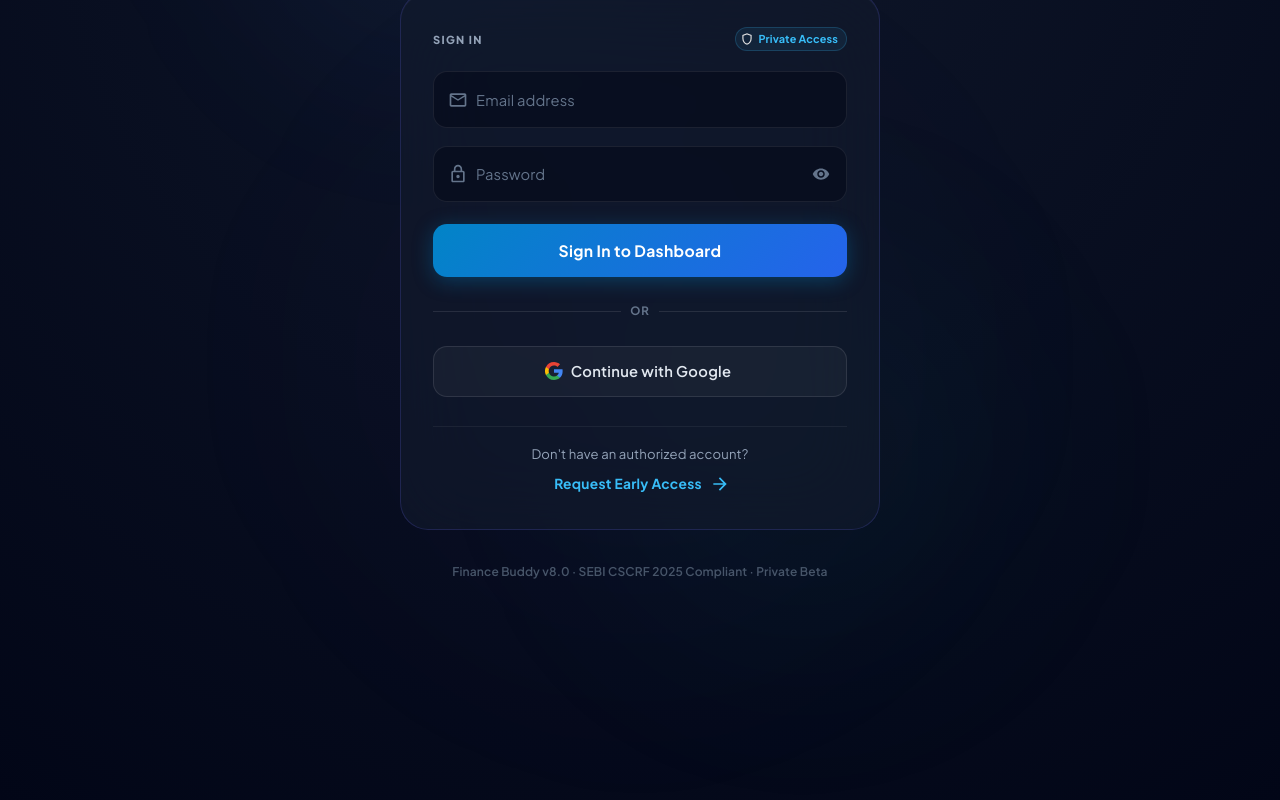
Landing Page › opens request access modal and submits application
This screenshot has width=1280, height=800.
(page scrolled)
Click the button "Request Early Access" at (640, 484), box top-left (554, 472), bottom-right (726, 496)
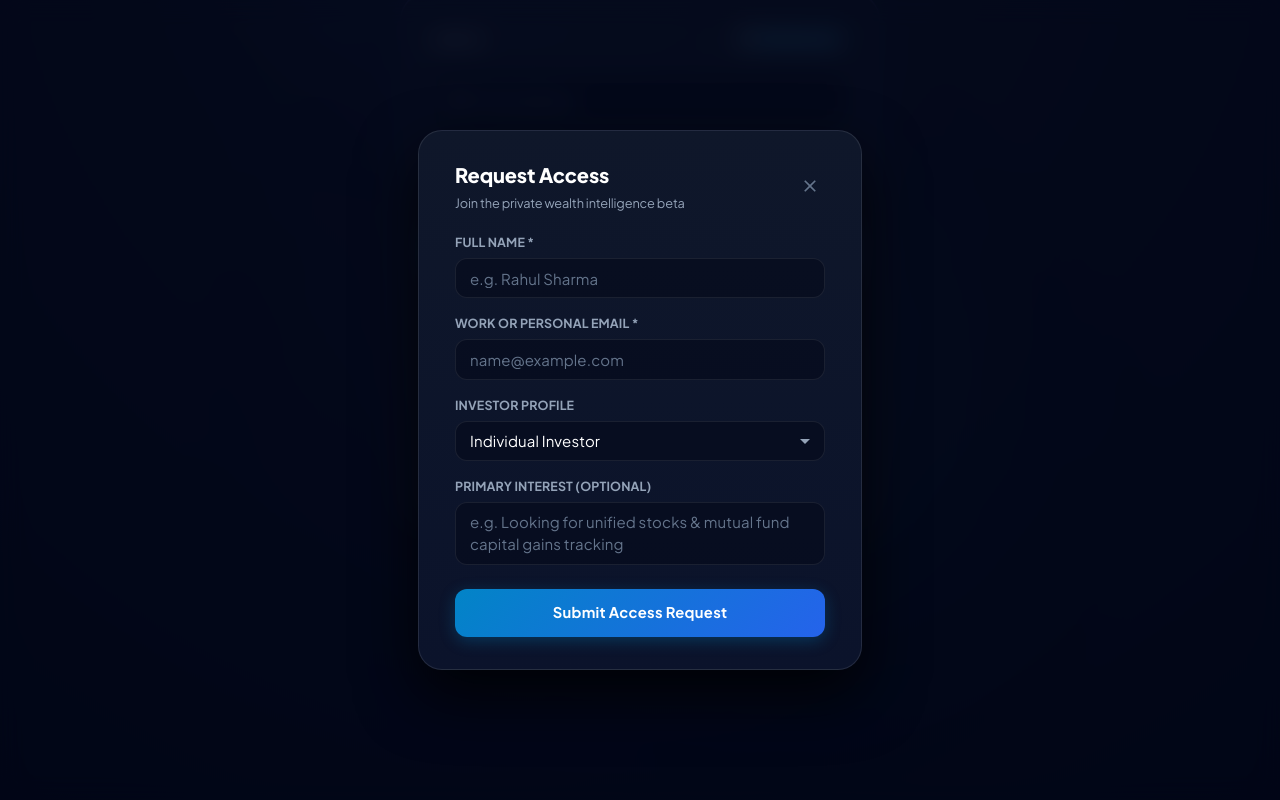
Result: the heading "Request Access Join the private wealth intelligence beta" is shown at top-left (431, 143), bottom-right (849, 221)
Result: the text "Join the private wealth intelligence beta" is shown at top-left (455, 193), bottom-right (685, 213)
Type "Alex Investor" into the field with placeholder "e.g. Rahul Sharma" at (640, 278), box top-left (456, 259), bottom-right (824, 298)
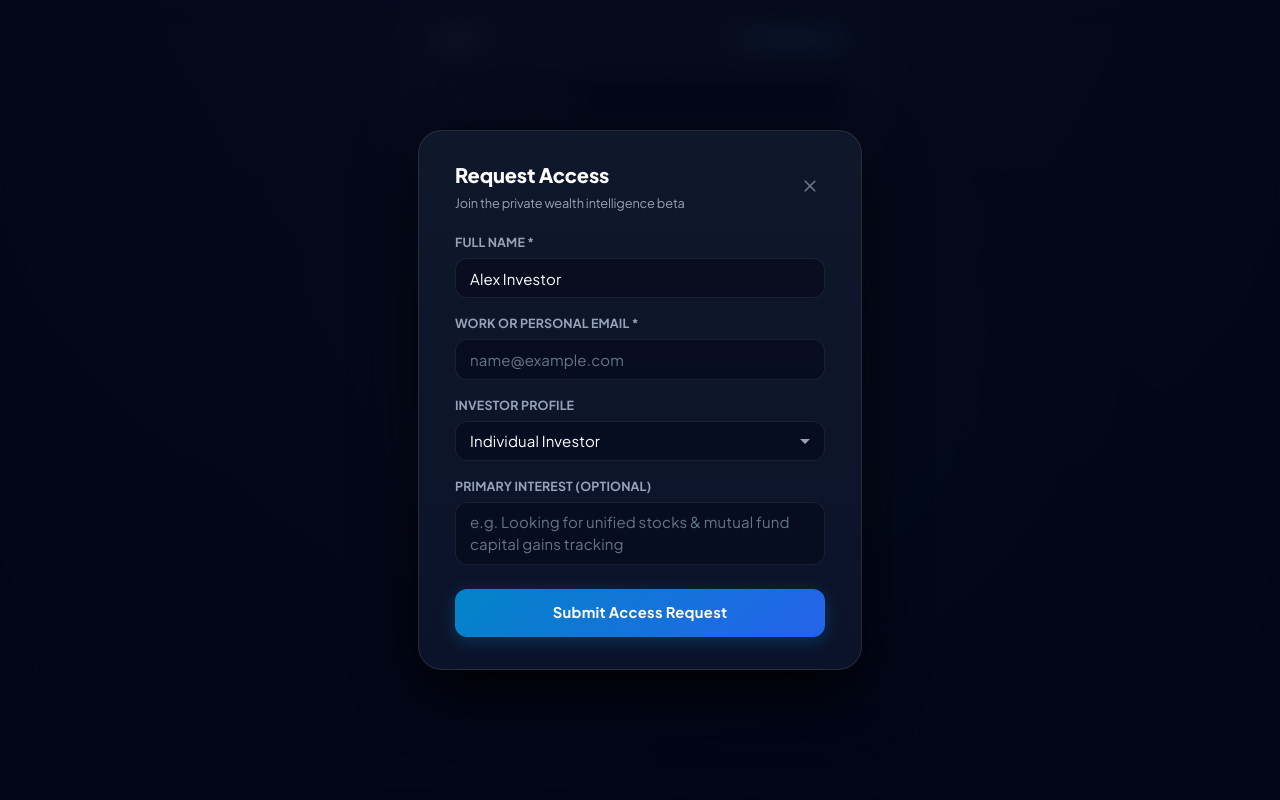
Type "alex@example.com" into the field with placeholder "name@example.com" at (640, 360), box top-left (456, 340), bottom-right (824, 379)
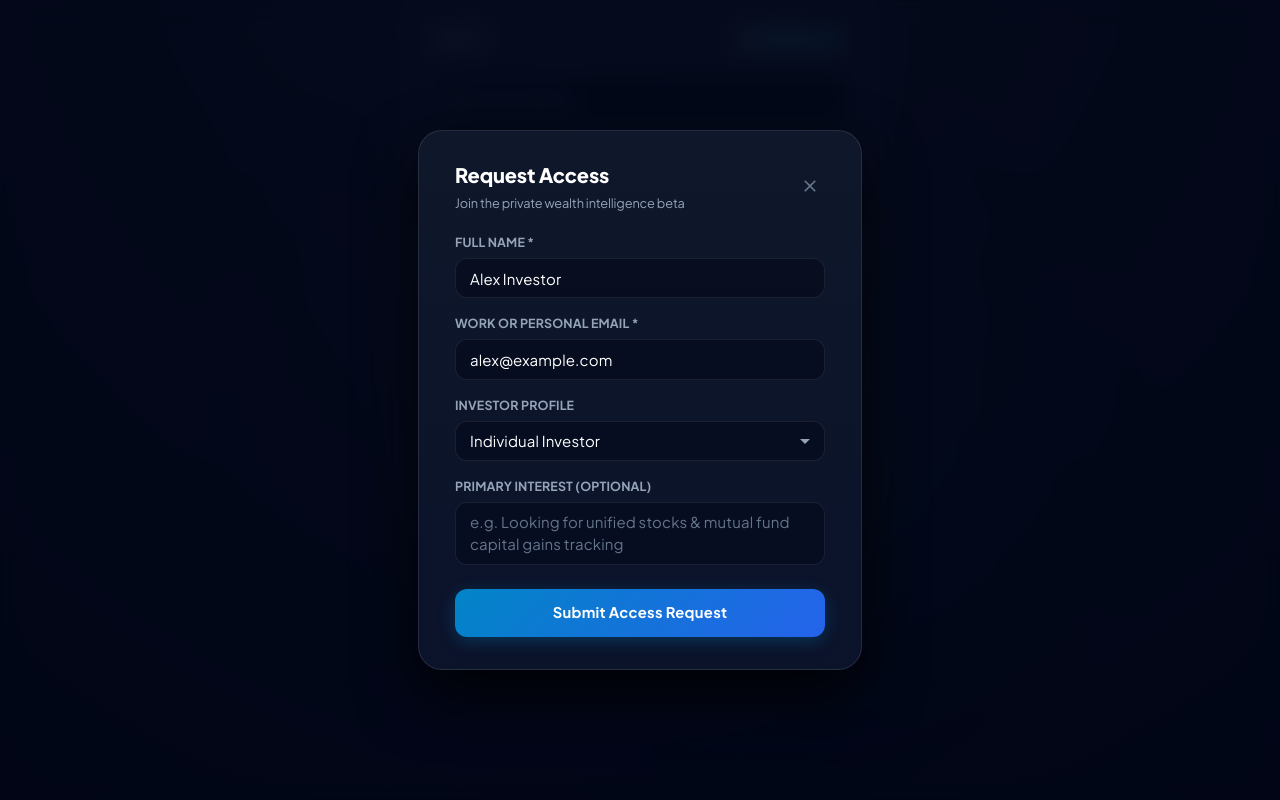
Click the button "Submit Access Request" at (640, 613), box top-left (455, 589), bottom-right (825, 637)
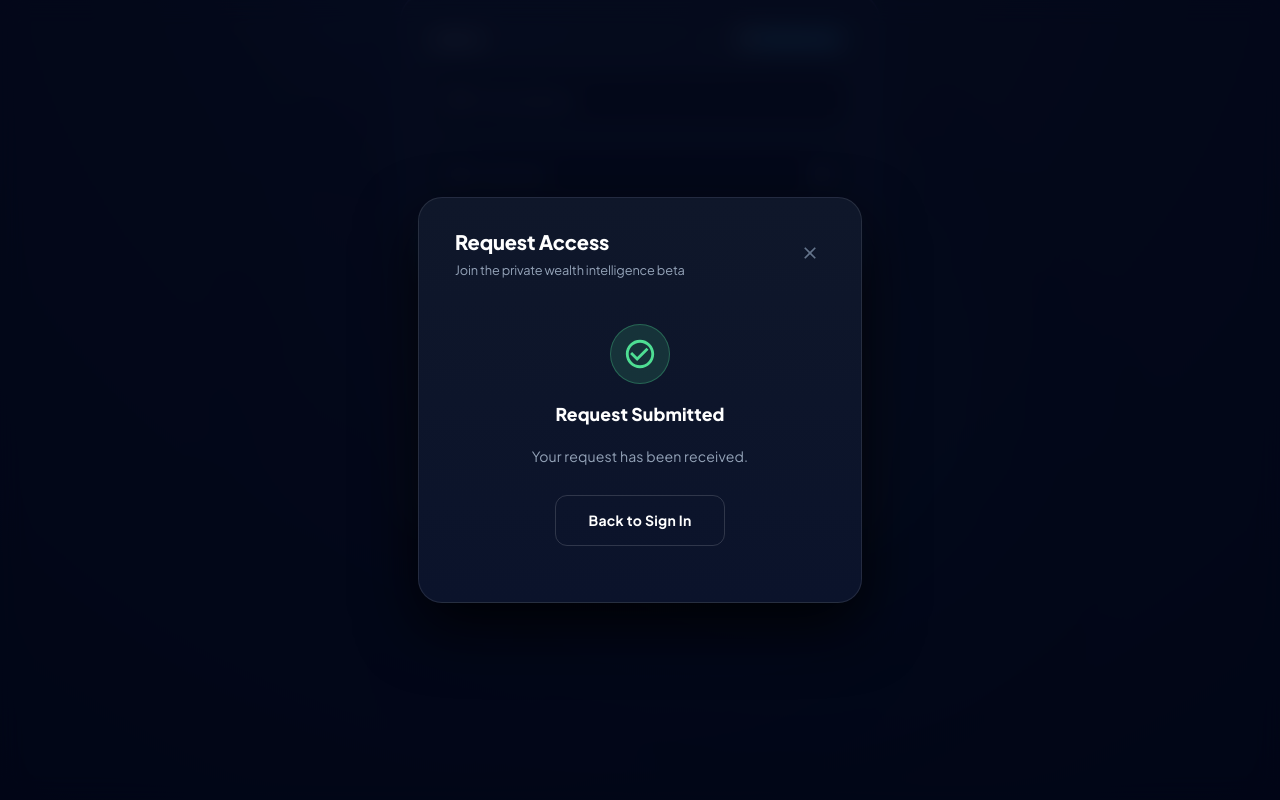
Result: the text "Your request has been received." is shown at top-left (532, 445), bottom-right (748, 467)
